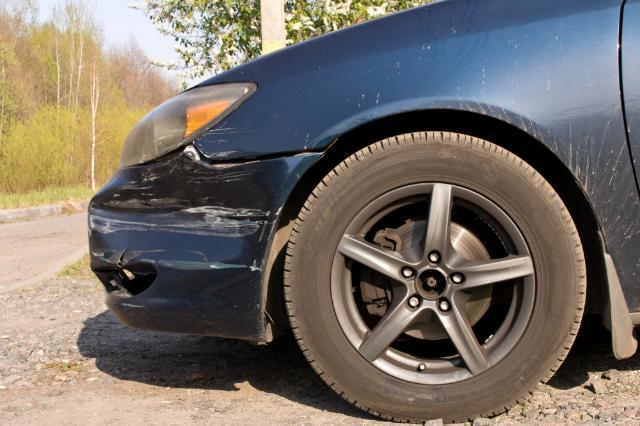crack: (116, 249, 127, 268)
dent: (91, 158, 286, 264)
dislocated part: (174, 140, 321, 174)
